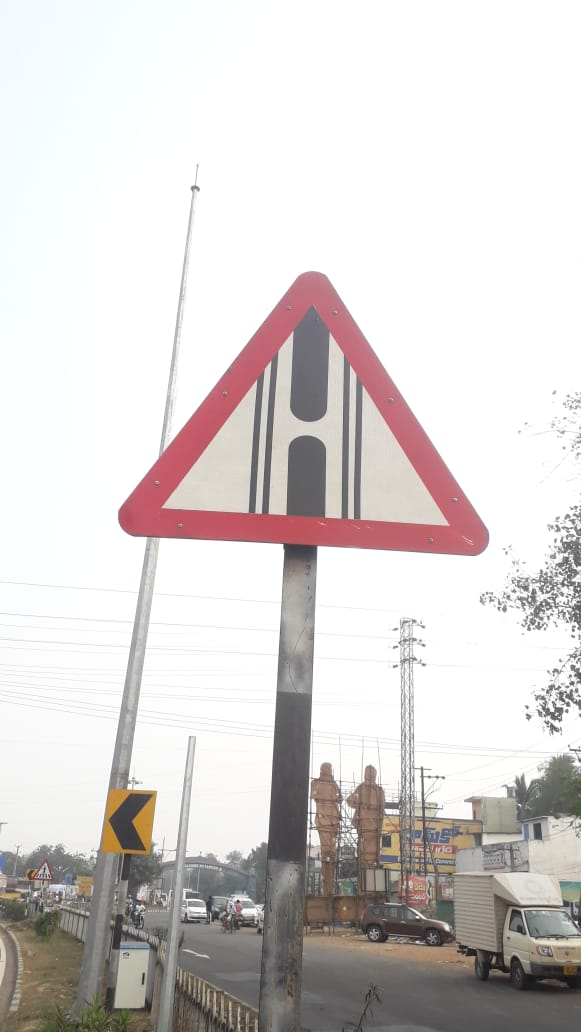highway go straight: (61, 232, 526, 581)
